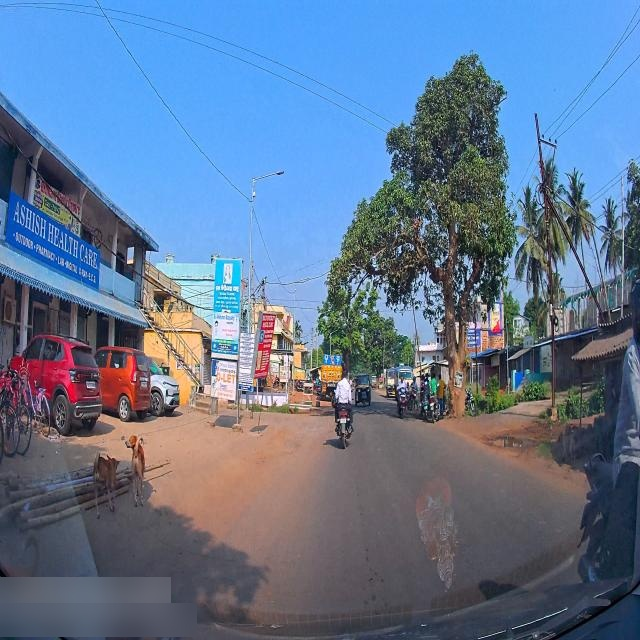pothole: (488, 429, 538, 454)
